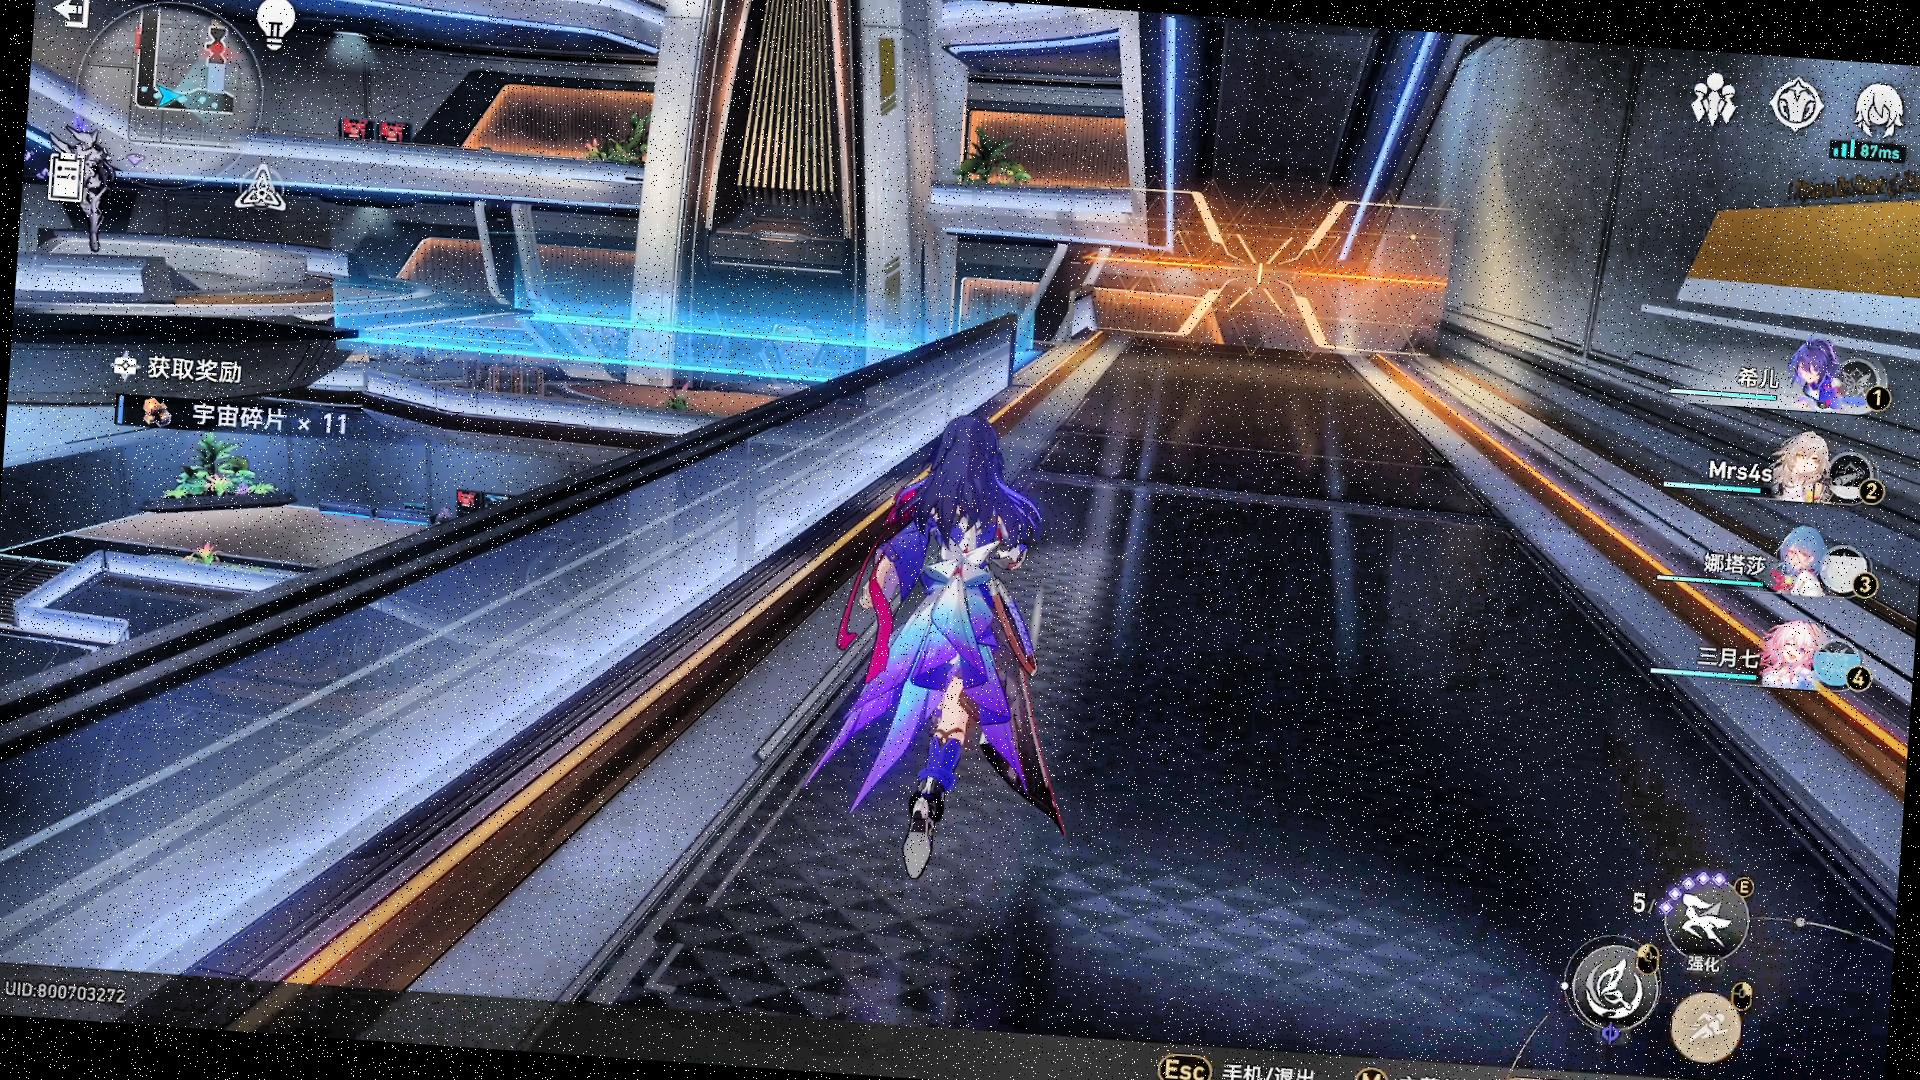Self: (802, 397, 1112, 916)
